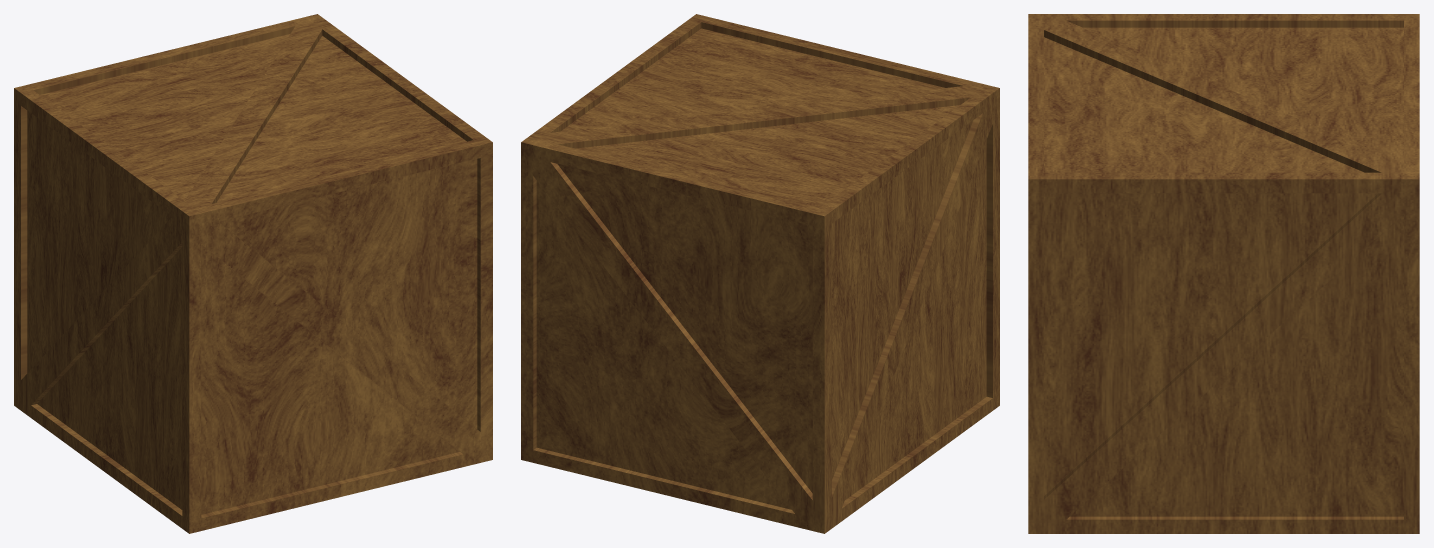
Rendered from destructible_crate.fbx.
3 renders of one model, left to right at view 1: azimuth 30°, elevation 25°; view 2: azimuth 150°, elevation 25°; view 3: azimuth 270°, elevation 25°, orthographic. The views are drawn at different scales.
Visible parts, largest first — view 1: Cube; view 2: Cube; view 3: Cube.
Boxes of the visible parts, left/top/right/bottom form: Cube: left=14, top=14, right=492, bottom=533; Cube: left=521, top=14, right=999, bottom=533; Cube: left=1028, top=14, right=1419, bottom=533.
Size of the model in its own units: 200 by 200 by 200.
